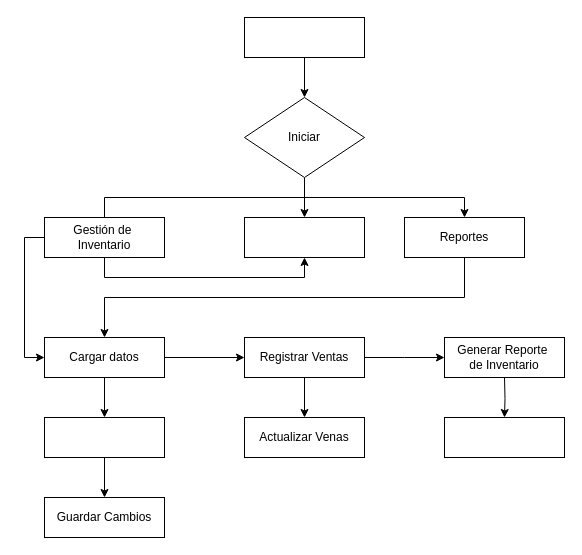
This 582x555 diagram has some shape labels left out. Each missing label, with the centre of its shape:
Actualizar Inventario: (104,437)
Generar Reporte de Ventas: (504,437)
Menu: (304,37)
Registro de Ventas: (304,237)
